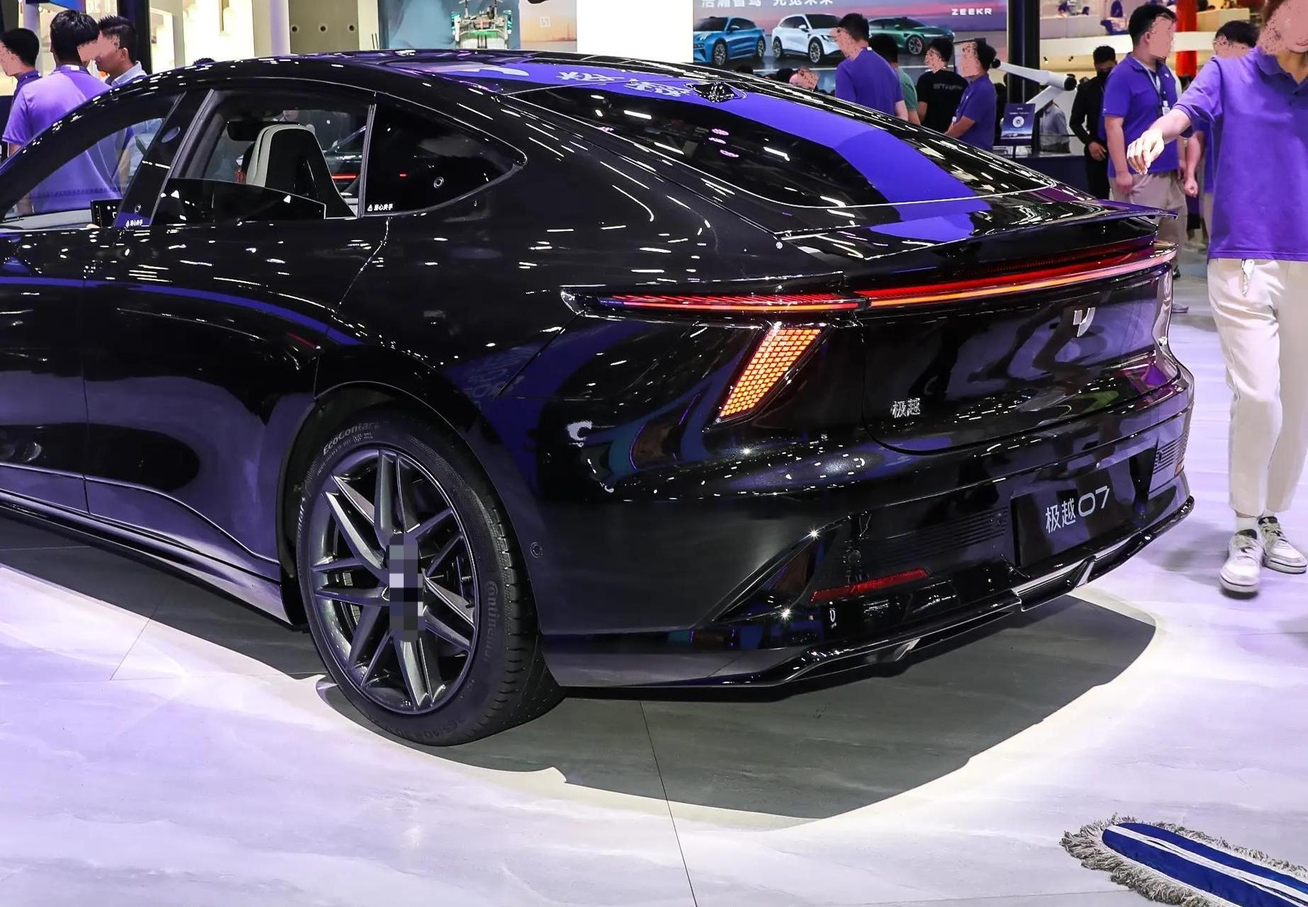JIYUE: (1073, 307, 1097, 337)
